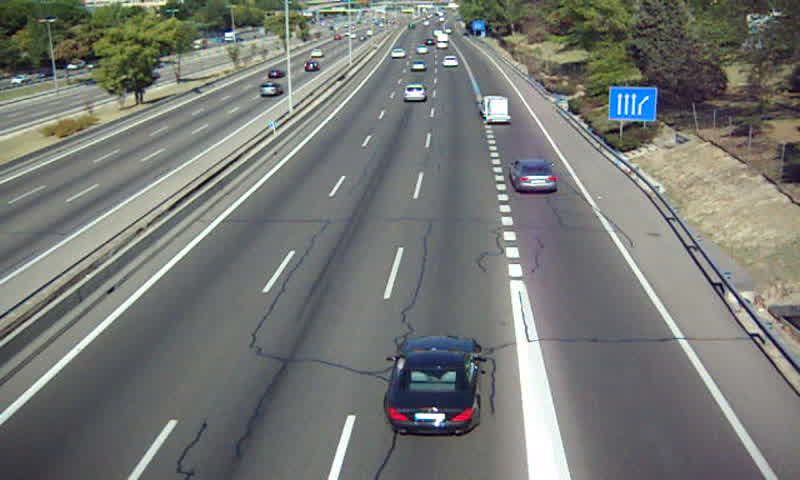car: (386, 337, 481, 437), (510, 159, 560, 193), (404, 83, 428, 103), (409, 60, 429, 73), (442, 54, 460, 68)
van: (478, 96, 510, 123)
